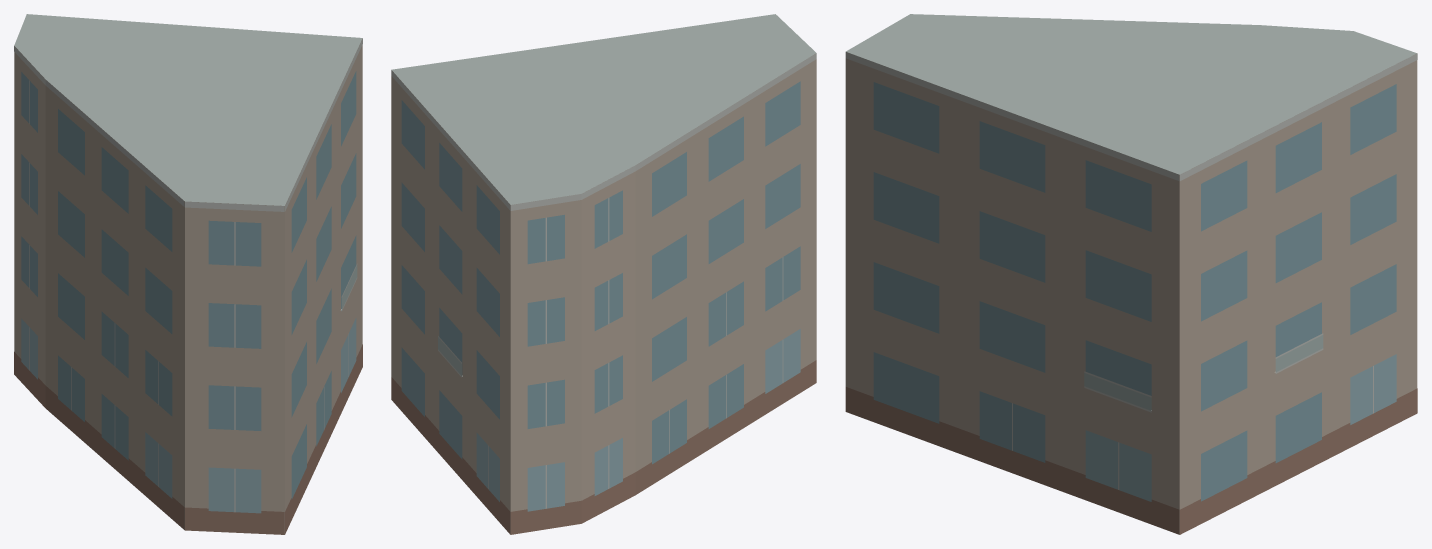
Rendered from survey-upis-32920806.glb.
3 views of the same model, side by side, from view 1: azimuth 30°, elevation 25°; view 2: azimuth 150°, elevation 25°; view 3: azimuth 270°, elevation 25° (orthographic). The views are drawn at different scales.
Visible parts, largest first — view 1: survey-upis-32920806.tmp; view 2: survey-upis-32920806.tmp; view 3: survey-upis-32920806.tmp.
Boxes of the visible parts, x1,y1,x2,y2 form: survey-upis-32920806.tmp: [14, 14, 362, 534]; survey-upis-32920806.tmp: [391, 14, 816, 534]; survey-upis-32920806.tmp: [845, 14, 1417, 534].
Size of the model in its own units: 12.7 by 13.25 by 19.08.
